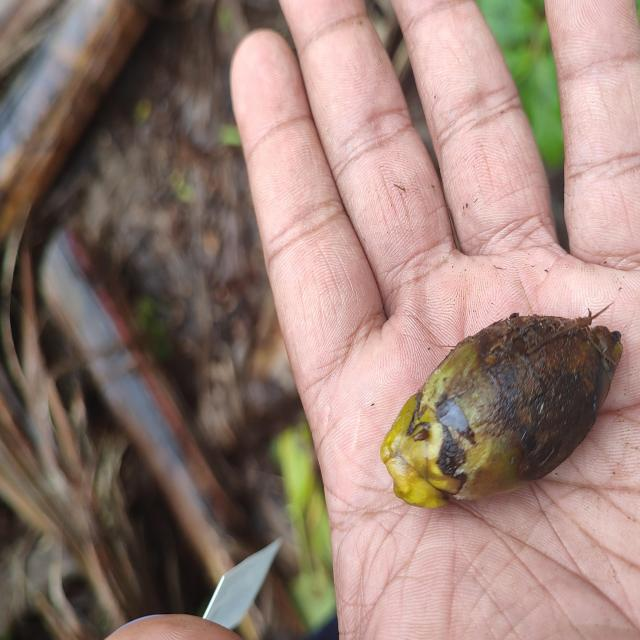damaged: (377, 314, 623, 513)
